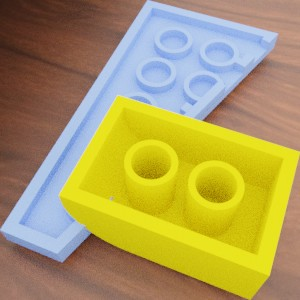lego: (0, 0, 278, 262), (58, 94, 299, 299)
